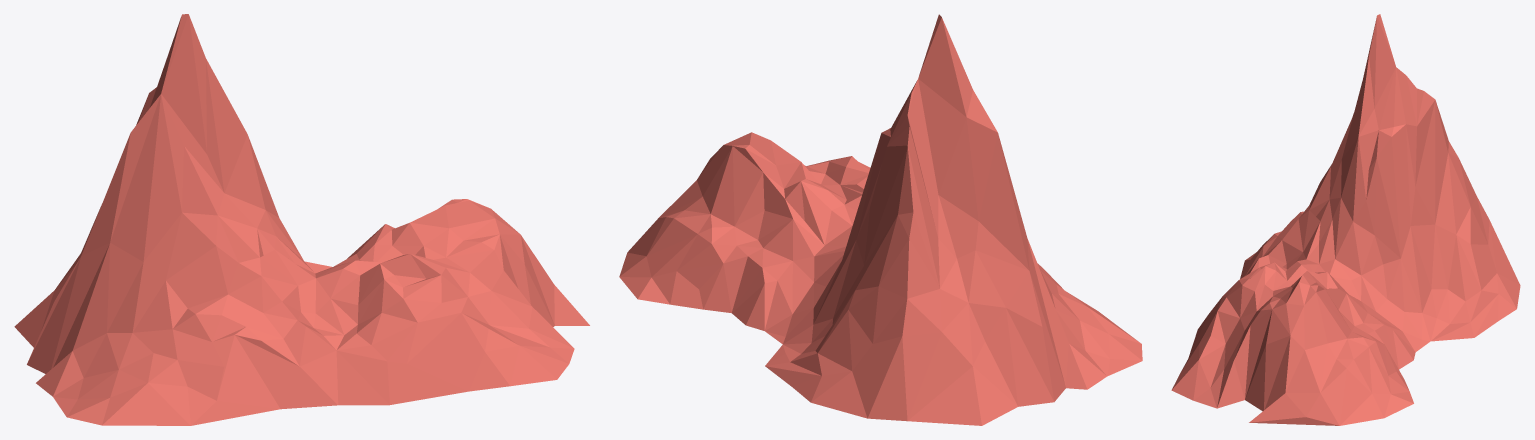
Rendered from Montain_3.glb.
3 views of the same model, side by side, from view 1: azimuth 30°, elevation 25°; view 2: azimuth 150°, elevation 25°; view 3: azimuth 270°, elevation 25° (orthographic). The views are drawn at different scales.
Visible parts, largest first — view 1: Montain_3; view 2: Montain_3; view 3: Montain_3.
Boxes of the visible parts, x1,y1,x2,y2 form: Montain_3: [14, 14, 589, 425]; Montain_3: [619, 14, 1142, 425]; Montain_3: [1171, 14, 1520, 425].
Size of the model in its own units: 3697 by 2391 by 2735.
